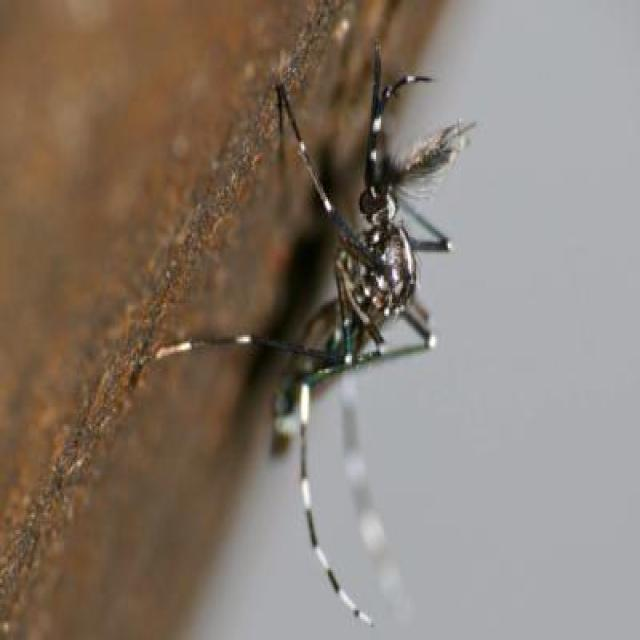antennae: (272, 50, 431, 208), (390, 112, 475, 204)
body: (272, 184, 410, 456)
insect: (158, 40, 475, 632)
legs: (158, 312, 438, 628), (274, 83, 384, 280)
mouthpart: (353, 46, 419, 207)
